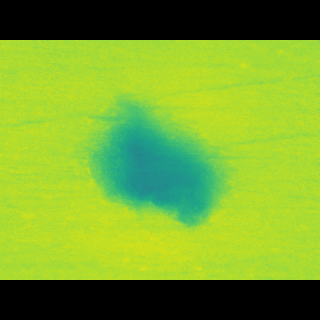Loch: (84, 114, 231, 215)
